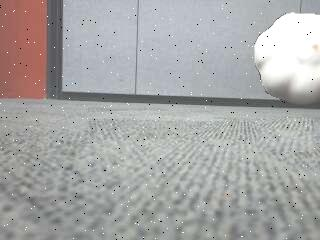Garlic: (254, 11, 320, 109)
